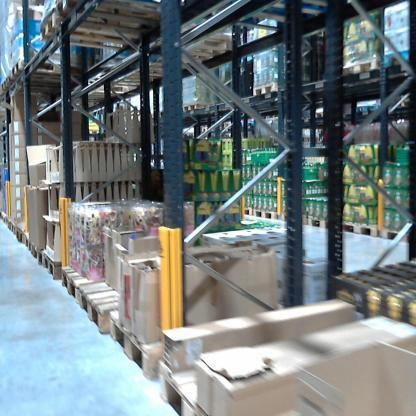pallet: (151, 296, 357, 415), (106, 298, 253, 378), (79, 268, 191, 338), (32, 12, 157, 55), (52, 1, 185, 37), (8, 58, 111, 93), (56, 261, 129, 307), (174, 19, 239, 55), (336, 212, 383, 248), (3, 70, 75, 93), (329, 56, 381, 78), (42, 248, 73, 282), (379, 43, 410, 71), (383, 223, 415, 248), (246, 78, 288, 96), (180, 96, 215, 117), (278, 207, 306, 233), (309, 210, 334, 233), (251, 201, 278, 222), (237, 201, 252, 222), (14, 224, 25, 248), (32, 244, 44, 264), (24, 235, 33, 257)
